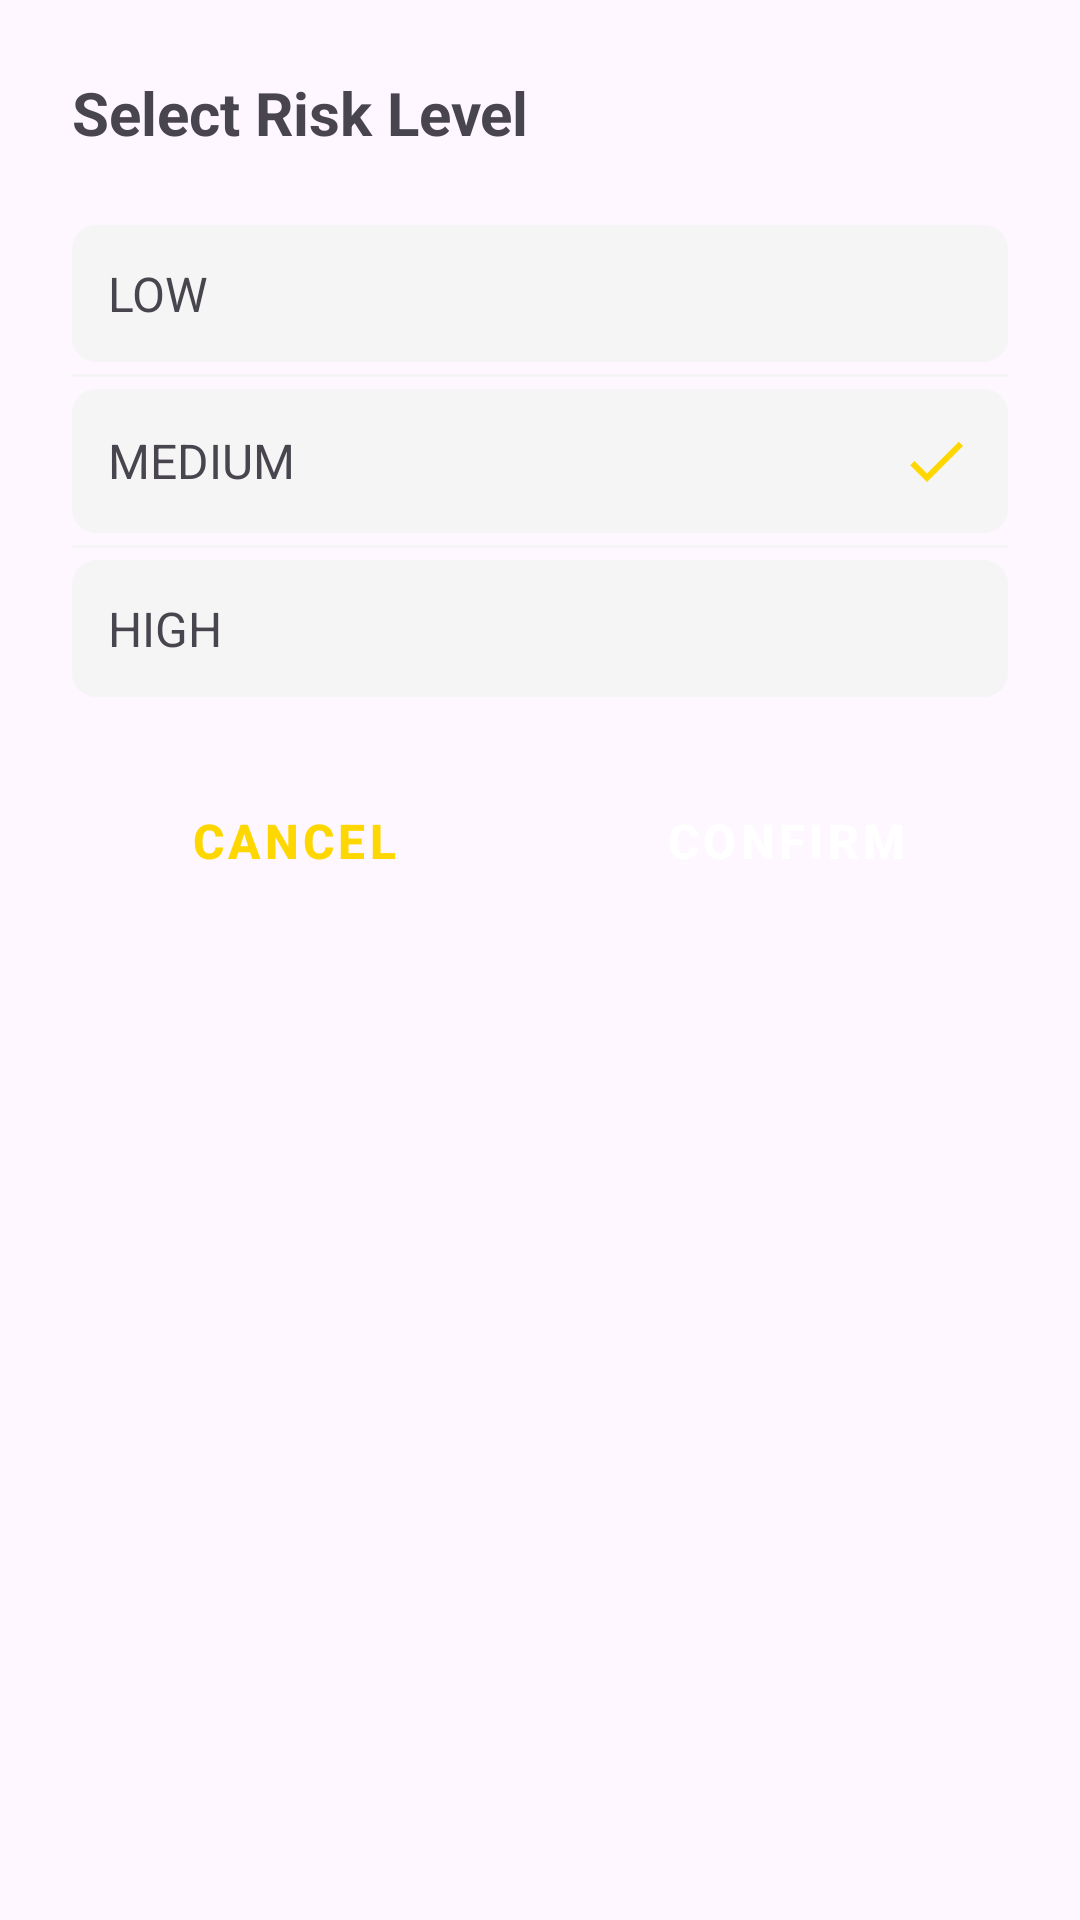

Icon bounding boxes for this 1080px x 1920px phone screenshot, format (x1, y1, x2, y2):
check: (910, 442, 963, 482)
